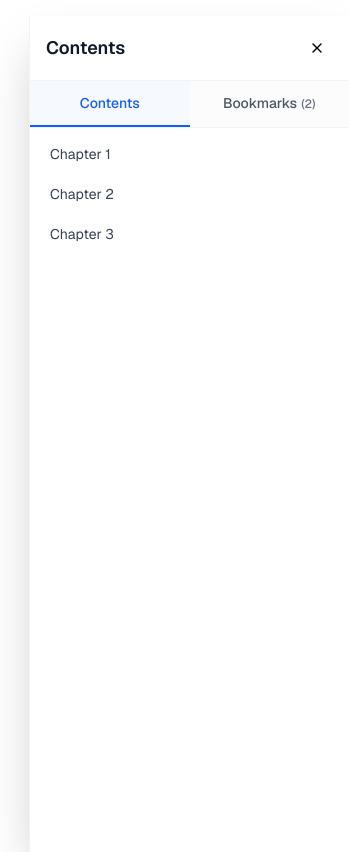
Test: ContentsAndBookmarksPanel › Bookmarks Tab › should display loading state when loading bookmarks
The width and height of the screenshot is (361, 852).
Step 1. Click the button "Bookmarks(2)" → point(269, 104), box x1=190 y1=81 x2=349 y2=127
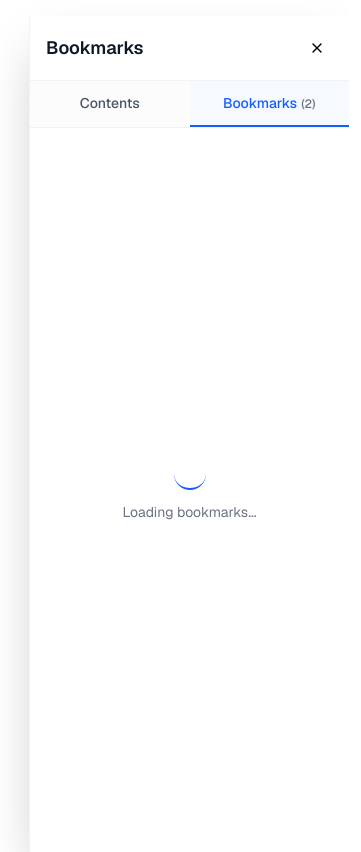
Now the text "Loading bookmarks..." is shown, box x1=122 y1=502 x2=257 y2=522
